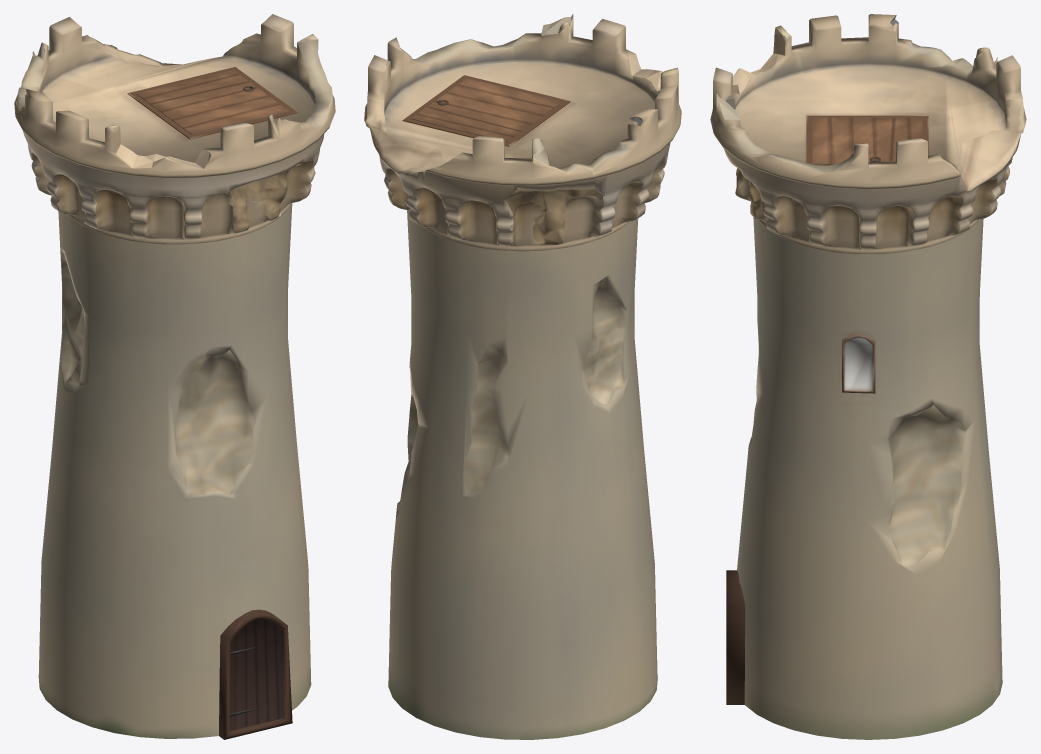
File: TowerDamaged4.gltf
The picture shows the model from 3 angles, left to right: view 1: azimuth 30°, elevation 25°; view 2: azimuth 150°, elevation 25°; view 3: azimuth 270°, elevation 25°; orthographic projection.
Visible parts, largest first — view 1: Cylinder.004; view 2: Cylinder.004; view 3: Cylinder.004.
Part boxes in pixels (box(x1,y1,x2,y2)): Cylinder.004: box(14, 14, 335, 739); Cylinder.004: box(364, 14, 681, 739); Cylinder.004: box(710, 14, 1026, 739).
Bounding box in the file's own units: 6.29 × 13.24 × 6.29.
Materials: 1 (1 with a texture image).
